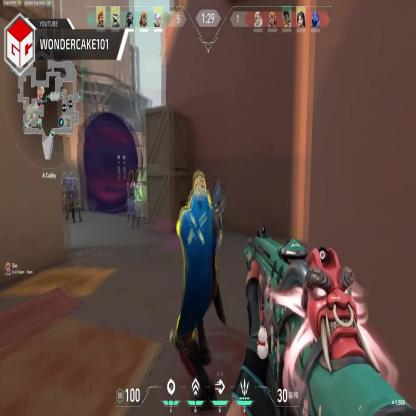enemy: (172, 165, 228, 415), (66, 170, 82, 230), (126, 170, 140, 230)
enemy_head: (190, 172, 207, 204), (129, 170, 133, 181), (69, 171, 74, 179)
